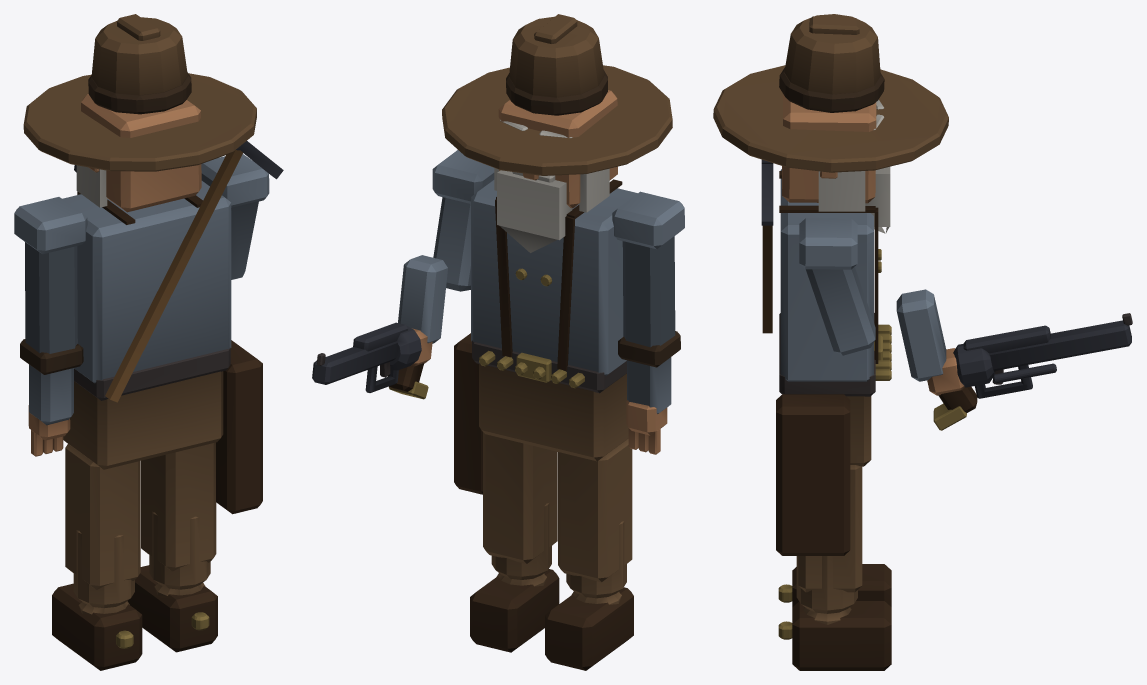
Rendered from cowboy_prospector.glb.
The picture shows the model from 3 angles, left to right: view 1: azimuth 30°, elevation 25°; view 2: azimuth 150°, elevation 25°; view 3: azimuth 270°, elevation 25°; orthographic projection.
Visible parts, largest first — view 1: O_Torso, O_Hat, O_Pelvis, O_Leg_L, O_Leg_R, O_Sleeve_L, O_Head, O_Shin_L, O_Shin_R, O_Gear, O_Sleeve_R, O_Cuff_L (+1 smaller); view 2: O_Torso, O_Hat, O_Pelvis, O_Leg_L, O_Leg_R, O_Sleeve_L, O_Hair, O_Shin_L, O_Shin_R, O_Frame, O_Fore_R, O_Head (+2 smaller); view 3: O_Hat, O_Pelvis, O_Torso, O_Frame, O_Shin_R, O_Leg_R, O_Fore_R, O_Sleeve_R, O_Head, O_Hair, O_Gear, O_Shin_L.
Boxes of the visible parts, <box> form: O_Torso: <box>14,154,269,383</box>; O_Hat: <box>23,14,256,171</box>; O_Pelvis: <box>63,340,262,514</box>; O_Leg_L: <box>65,444,140,608</box>; O_Leg_R: <box>141,442,216,589</box>; O_Sleeve_L: <box>25,242,77,456</box>; O_Head: <box>81,94,201,212</box>; O_Shin_L: <box>52,583,142,670</box>; O_Shin_R: <box>127,565,217,652</box>; O_Gear: <box>105,141,283,402</box>; O_Sleeve_R: <box>231,201,258,279</box>; O_Cuff_L: <box>20,339,83,374</box>; O_Torso: <box>432,150,684,375</box>; O_Hat: <box>442,14,672,175</box>; O_Pelvis: <box>454,333,628,494</box>; O_Leg_L: <box>558,438,632,598</box>; O_Leg_R: <box>483,432,557,579</box>; O_Sleeve_L: <box>622,236,675,454</box>; O_Hair: <box>494,168,609,252</box>; O_Shin_L: <box>545,587,633,670</box>; O_Shin_R: <box>470,569,559,652</box>; O_Frame: <box>312,322,428,399</box>; O_Fore_R: <box>398,255,447,366</box>; O_Head: <box>498,90,617,208</box>; O_Hat: <box>713,14,948,172</box>; O_Pelvis: <box>776,313,891,555</box>; O_Torso: <box>779,169,881,381</box>; O_Frame: <box>933,313,1132,430</box>; O_Shin_R: <box>778,601,891,670</box>; O_Leg_R: <box>796,465,862,613</box>; O_Fore_R: <box>896,289,964,395</box>; O_Sleeve_R: <box>806,266,875,355</box>; O_Head: <box>782,94,884,203</box>; O_Hair: <box>818,166,890,233</box>; O_Gear: <box>761,159,773,333</box>; O_Shin_L: <box>778,564,891,606</box>.
Size of the model in its own units: 0.92 by 2.36 by 1.44.
